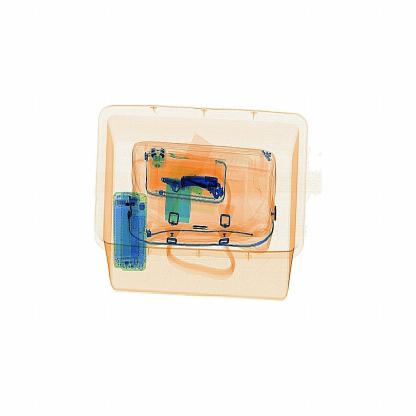knife: (177, 168, 228, 203)
